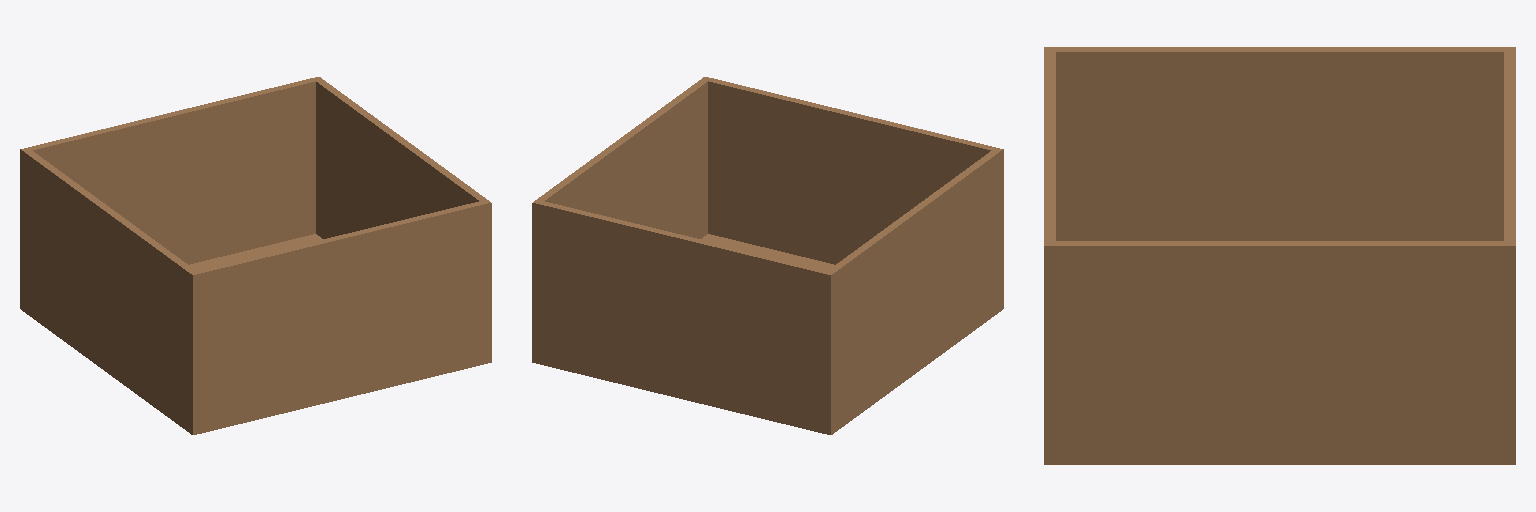
URDF robot description (box):
<robot name="box">
  <material name="Box_color">
    <color rgba="0.678 0.529 0.384 1.0"/>
  </material>

    <link name="base1">
        <inertial>
            <origin xyz="0 0 0"/>
            <mass value="1"/>
            <inertia ixx="0.0267" ixy="0" ixz="0" iyy="0.0267" iyz="0" izz="0.0267"/>
        </inertial>
        <!-- <visual>
            <origin xyz="0 0 0"/>
            <geometry>
                <box size="0.4 0.4 0.4"/>
            </geometry>
            <material name="Box_color"/>
        </visual> -->
               <visual>
            <origin xyz="0 0 -0.1"/>
            <geometry>
                <box size="0.4 0.4 0.01"/>
            </geometry>
            <material name="Box_color"/>
        </visual>
        <visual>
            <origin xyz="0 0.195 0"/>
            <geometry>
                <box size="0.4 0.01 0.2"/>
            </geometry>
            <material name="Box_color"/>
        </visual>
        <visual>
            <origin xyz="0 -0.195 0"/>
            <geometry>
                <box size="0.4 0.01 0.2"/>
            </geometry>
            <material name="Box_color"/>
        </visual>

        <visual>
            <origin xyz="0.195 0 0"/>
            <geometry>
                <box size="0.01 0.4 0.2"/>
            </geometry>
            <material name="Box_color"/>
        </visual>
        <visual>
            <origin xyz="-0.195 0 0"/>
            <geometry>
                <box size="0.01 0.4 0.2"/>
            </geometry>
            <material name="Box_color"/>
        </visual>
    </link>
</robot>

--- Facts derived from the render (not from the file) ---
Views: 3 orthographic renders of the robot side by side, from view 1: azimuth 30°, elevation 25°; view 2: azimuth 150°, elevation 25°; view 3: azimuth 270°, elevation 25°.
Model box with 1 links and 0 joints (none), rooted at base1, posed all joints at 0.
Visible links, largest first — view 1: base1; view 2: base1; view 3: base1.
Boxes of the visible links, x1,y1,x2,y2 form: base1: (20, 77, 491, 434); base1: (532, 77, 1003, 434); base1: (1044, 47, 1515, 464).
Size in the robot's own frame: 0.4 by 0.4 by 0.205 metres.
Geometry: primitives only (box / cylinder / sphere), no mesh files.